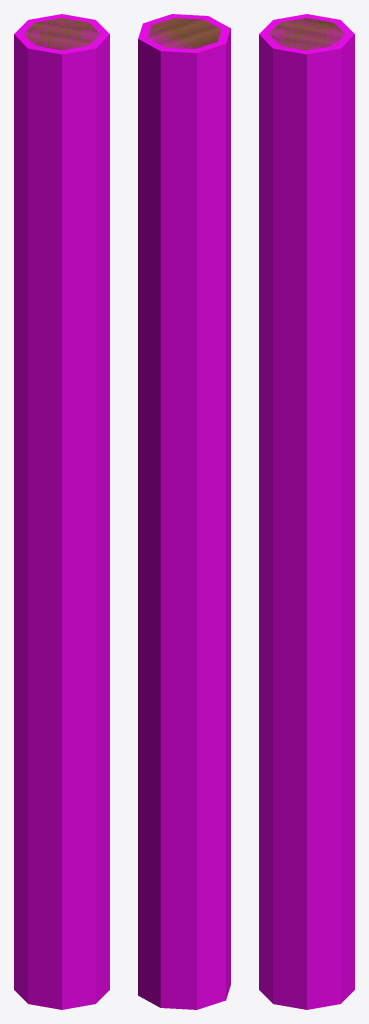
File: stake_wood.dae
3 views of the same model, side by side, from view 1: azimuth 90°, elevation 25°; view 2: azimuth 150°, elevation 25°; view 3: azimuth 270°, elevation 25° (orthographic).
Visible parts, largest first — view 1: Colmesh_stake-1, stake_wood_a800; view 2: Colmesh_stake-1, stake_wood_a800; view 3: Colmesh_stake-1, stake_wood_a800.
Part boxes in pixels (x1=…): Colmesh_stake-1: x1=14, y1=14, x2=109, y2=1009; stake_wood_a800: x1=24, y1=18, x2=99, y2=50; Colmesh_stake-1: x1=138, y1=14, x2=230, y2=1009; stake_wood_a800: x1=147, y1=18, x2=221, y2=49; Colmesh_stake-1: x1=259, y1=14, x2=354, y2=1009; stake_wood_a800: x1=269, y1=18, x2=344, y2=50.
Size of the model in its own units: 0.1 by 0.1 by 1.1.
Materials: 2 (1 with a texture image).
